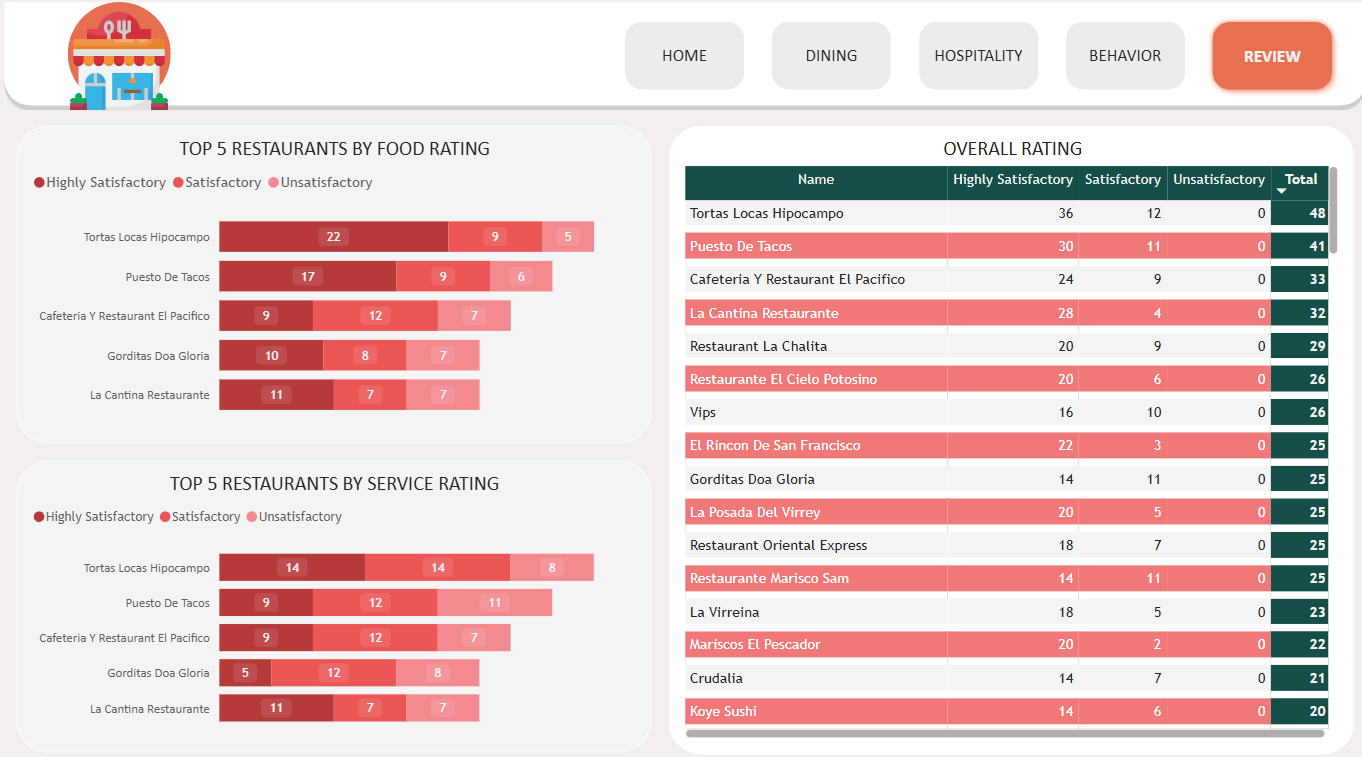

This screenshot's page, from the dashboard's own definition file:
{"tool":"powerbi","page":{"name":"REVIEW","canvas":[1280,720],"ordinal":4},"visuals":[{"type":"barChart","title":"TOP 5 RESTAURANTS BY SERVICE RATING","fields":{"Category":["restaurants.Name"],"Y":["CountNonNull(ratings.Consumer_ID)"],"Series":["ratings.Service_Rating_Category"]},"box":[16,432,592,272],"z":0},{"type":"barChart","title":"TOP 5 RESTAURANTS BY FOOD RATING","fields":{"Category":["restaurants.Name"],"Y":["CountNonNull(ratings.Consumer_ID)"],"Series":["ratings.Food_Rating_Category"]},"box":[15.9,119.8,592.3,296.1],"z":1000},{"type":"pivotTable","title":"OVERALL RATING","fields":{"Rows":["restaurants.Name"],"Columns":["ratings.Overall_Rating_Category"],"Values":["Sum(ratings.Overall_Rating)"]},"box":[625.3,119.8,639.6,586.3],"z":2000},{"type":"shape","box":[0,0,1280.5,105.9],"z":3000},{"type":"pageNavigator","box":[576,15.5,677.6,79.1],"z":4000},{"type":"shape","box":[63.7,4.4,96.2,96.7],"z":5000},{"type":"image","box":[56,9.3,111.5,101.1],"z":6000}]}

Visuals, with their boxes in screenshot pixels (x1, y1, x2, y2), scaled from the page's 1280x720 canvas onto the 1362x757 screenshot:
"TOP 5 RESTAURANTS BY SERVICE RATING" barChart: BBox(17, 454, 647, 740)
"TOP 5 RESTAURANTS BY FOOD RATING" barChart: BBox(17, 126, 647, 437)
"OVERALL RATING" pivotTable: BBox(665, 126, 1346, 742)
shape: BBox(0, 0, 1361, 111)
pageNavigator: BBox(613, 16, 1334, 99)
shape: BBox(68, 5, 170, 106)
image: BBox(60, 10, 178, 116)
